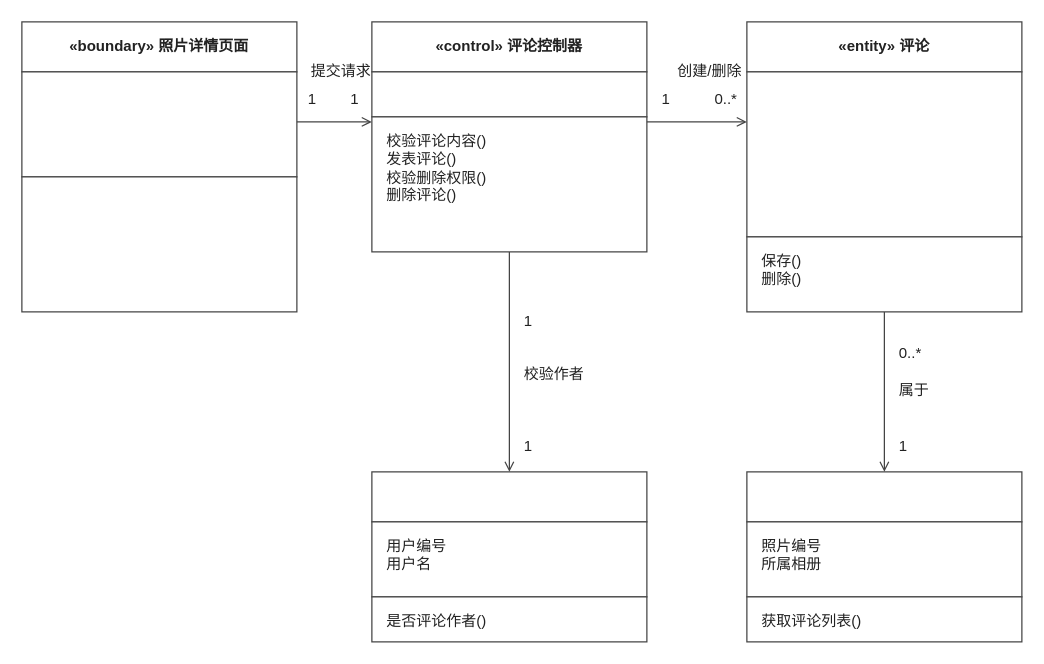
Some shapes in this 1044 by 664 pixel diagram are drawn without their labels. Here are the shapes that lost their labels. From the top down, the box of each, then its label:
(21, 71, 297, 177): 照片信息 评论输入框 评论列表
(746, 71, 1022, 237): 评论编号 评论内容 评论时间 用户编号 照片编号
(21, 176, 297, 312): 读取评论内容() 显示评论列表() 确认删除() 提示错误()
(371, 471, 647, 522): «entity» 用户
(746, 471, 1022, 522): «entity» 照片
